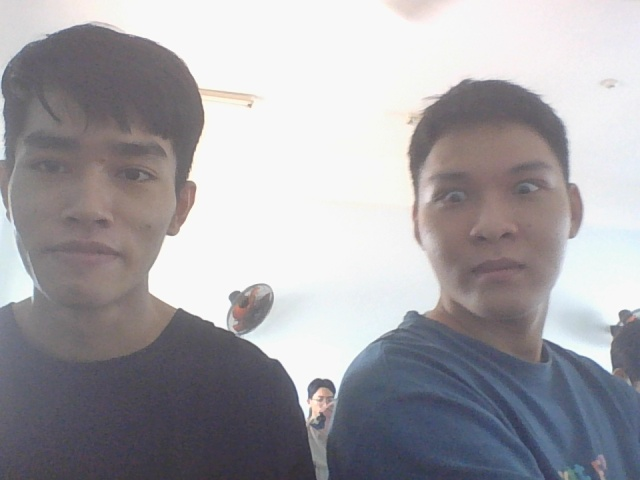real: (0, 9, 224, 326), (399, 62, 591, 334)
